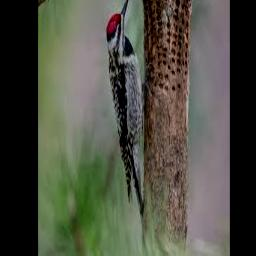Woodpecker: (107, 0, 145, 220)
